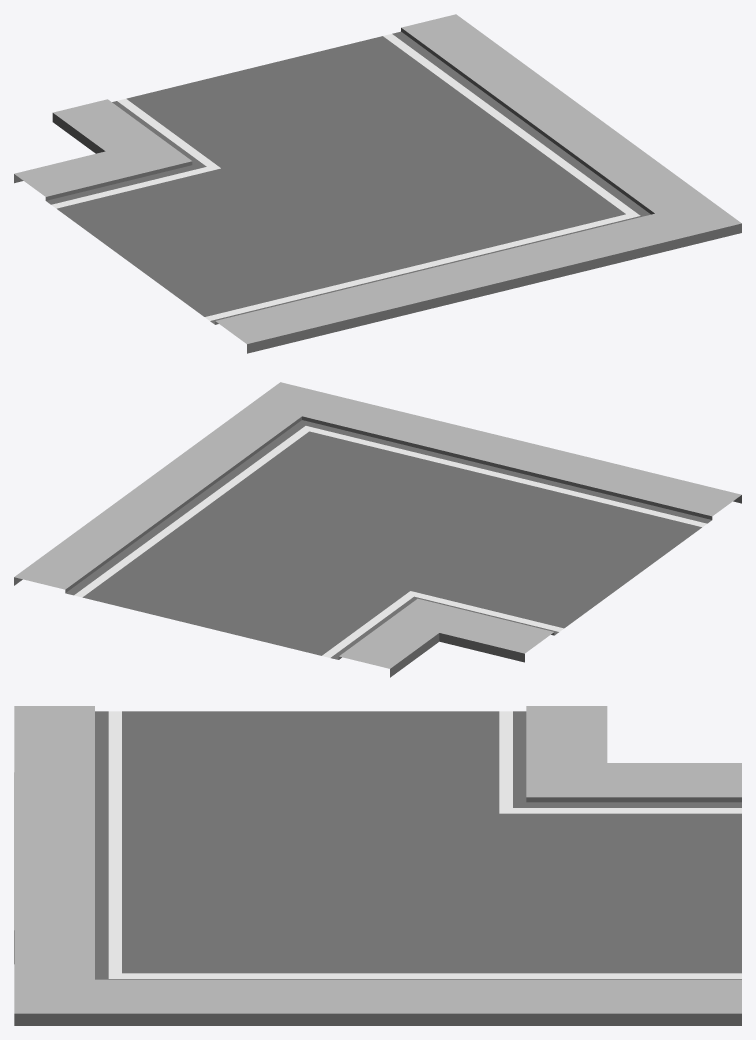
The model's file is Road1.fbx.
The picture shows the model from 3 angles, top to bottom: view 1: azimuth 30°, elevation 25°; view 2: azimuth 150°, elevation 25°; view 3: azimuth 270°, elevation 25°; orthographic projection. The views are drawn at different scales.
Parts seen in each view (by area): view 1: 2Road; view 2: 2Road; view 3: 2Road.
Part boxes in pixels (<box>): 2Road: <box>14,14,741,353</box>; 2Road: <box>14,382,741,677</box>; 2Road: <box>14,706,741,1025</box>.
Bounding box in the file's own units: 4636 × 85.27 × 4638.
